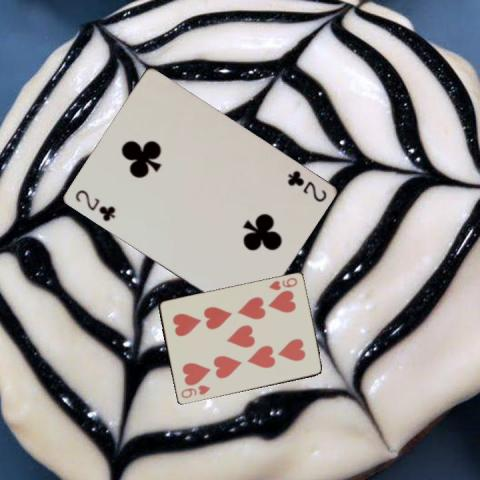2c: (283, 167, 328, 204), (71, 187, 117, 223)
9h: (178, 382, 211, 400), (265, 275, 299, 292)
